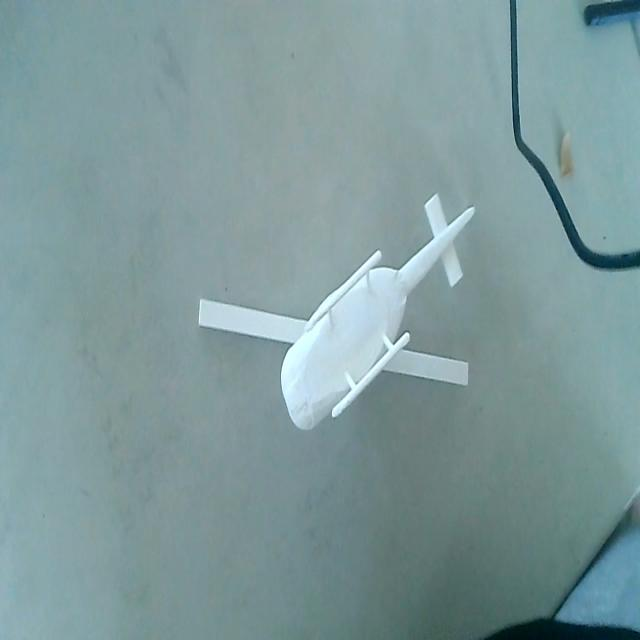Helicopter: (195, 194, 473, 420)
